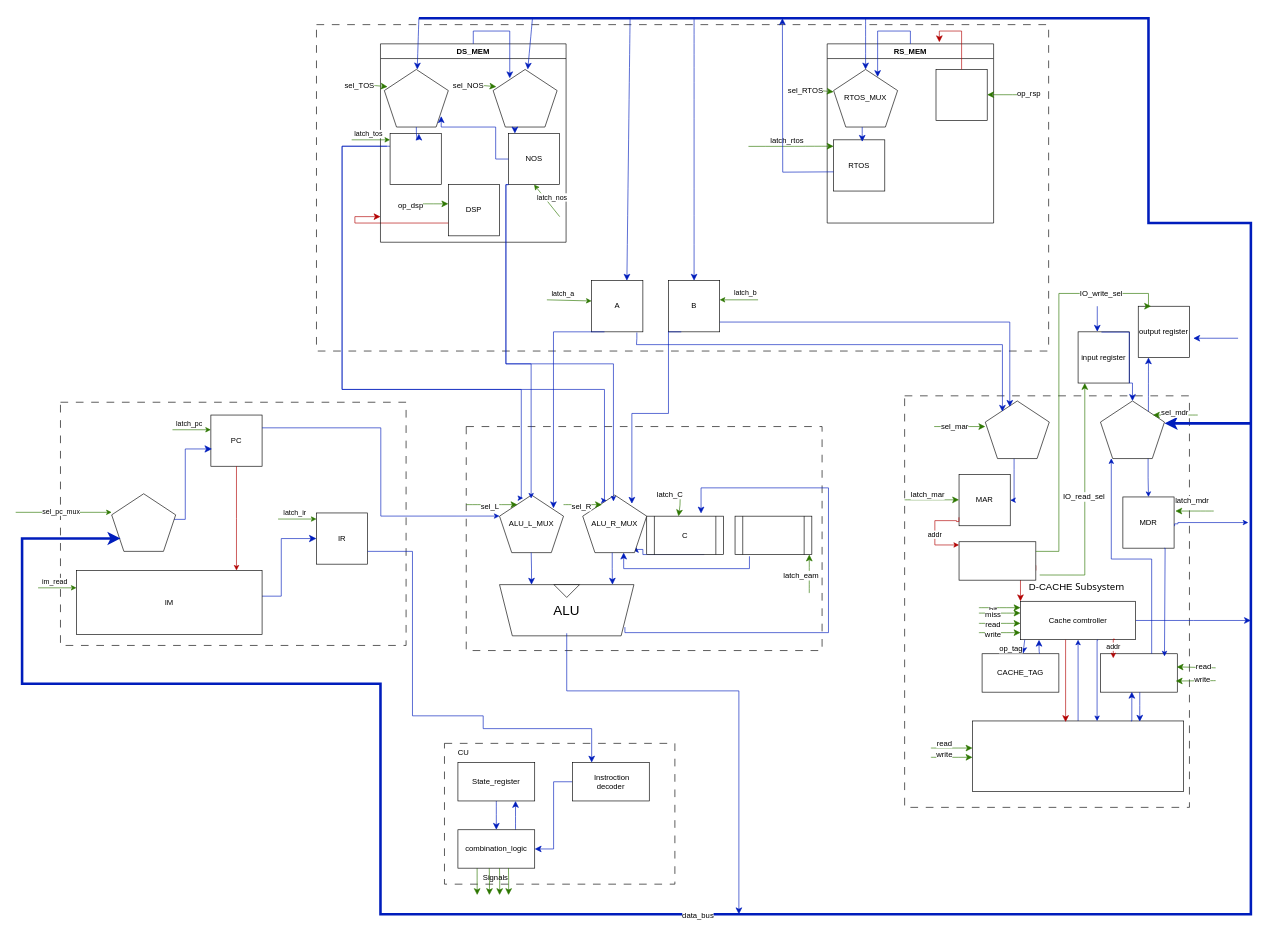
This 1270x932 diagram has some shape labels left out. The centre of each missing label's shape, as x and y in pixels:
"address decoder" belongs at [997,560].
"CACHE_DATA" belongs at [1138,672].
"DM" belongs at [1078,755].
"EAM" belongs at [773,535].
"MAR_MUX" belongs at [1017,429].
"MDR_MUX" belongs at [1132,429].
"NOS_MUX" belongs at [524,98].
"PC_MUX 0: ALU 1: MDR 2: R" belongs at [143,522].
"RSP" belongs at [961,95].
"TOS" belongs at [415,159].
"TOS_MUX" belongs at [416,98].
